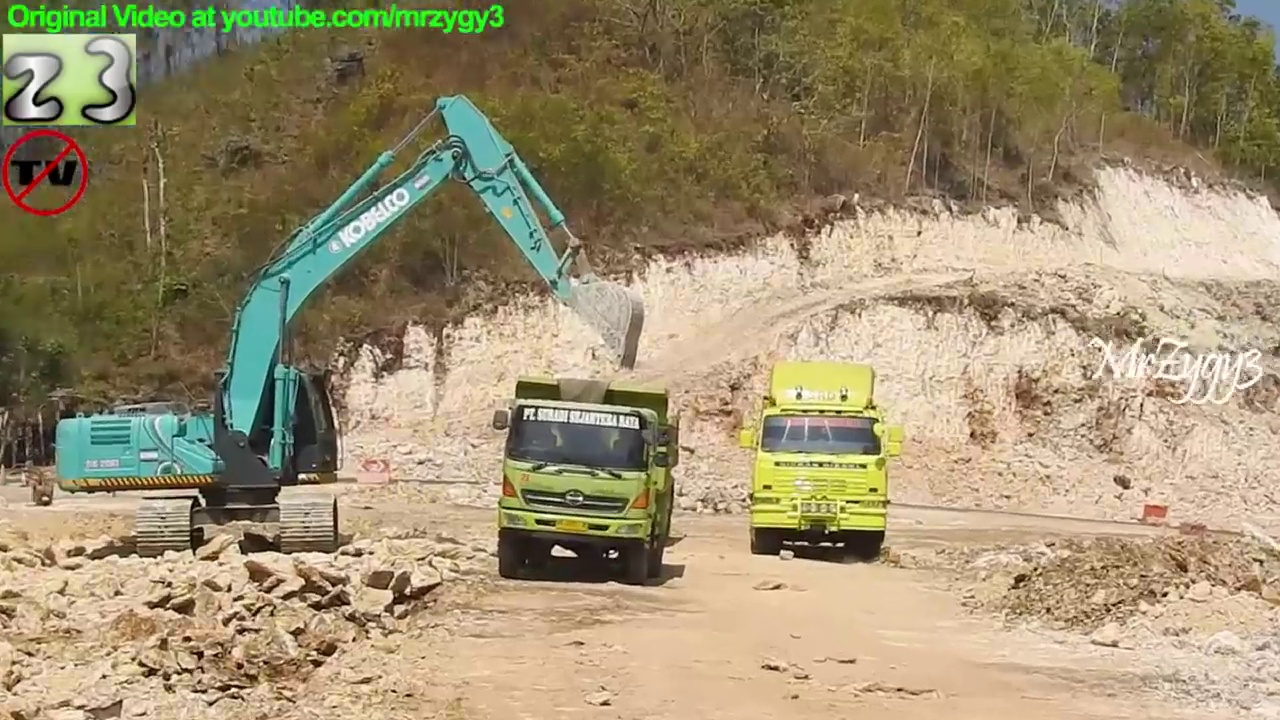excavator: (50, 90, 648, 561)
truck: (489, 371, 684, 590), (736, 357, 905, 565)
